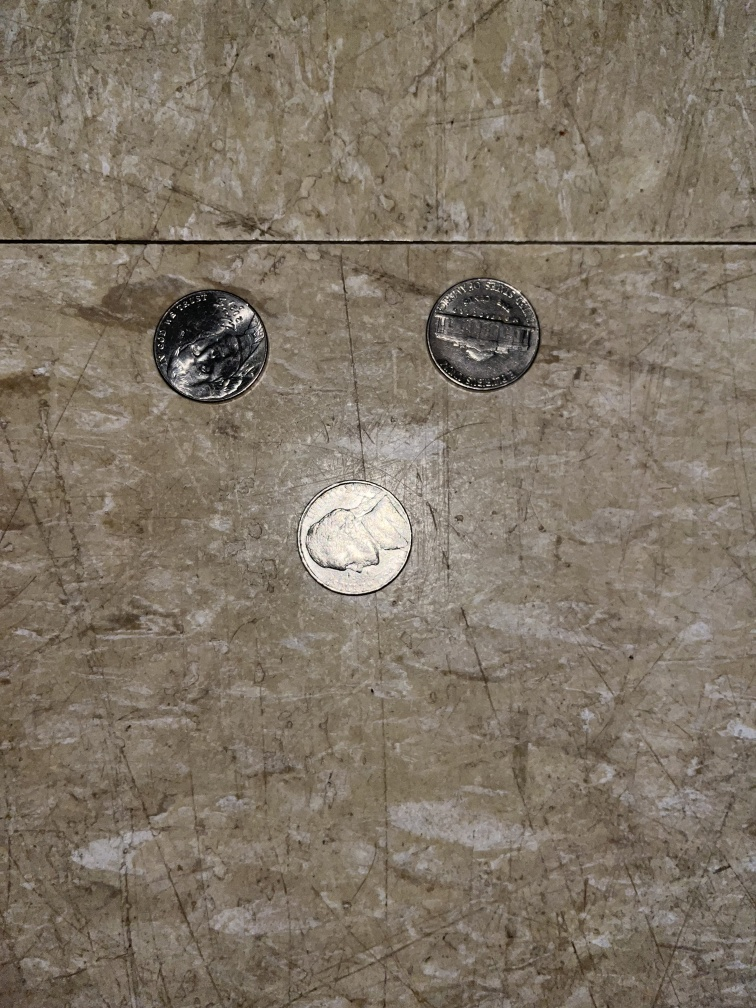nickel: (285, 472, 420, 604), (417, 269, 547, 398), (148, 283, 273, 410)
